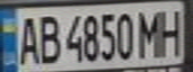0: (115, 8, 136, 61)
4: (60, 10, 84, 63)
5: (100, 9, 118, 61)
8: (81, 10, 100, 62)
A: (12, 11, 42, 65)
B: (33, 11, 60, 64)
H: (157, 4, 190, 56)
M: (136, 6, 163, 58)
